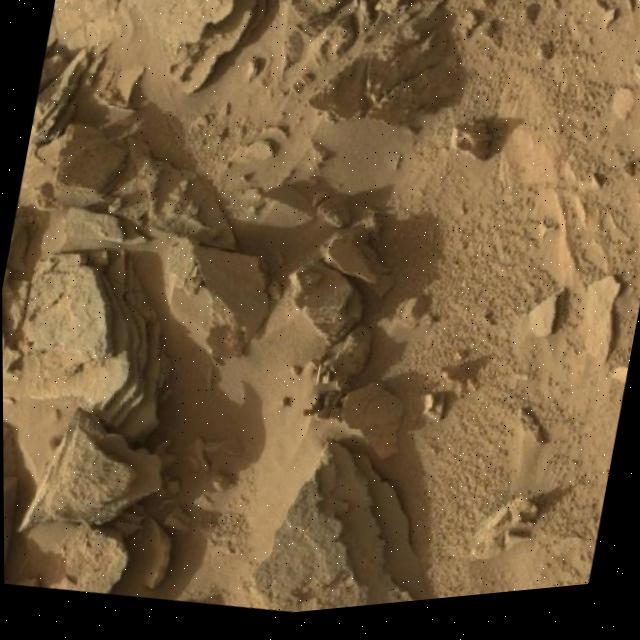mars-rocks: (289, 267, 363, 350), (342, 389, 405, 466), (321, 233, 391, 302), (471, 504, 540, 569), (584, 286, 622, 373), (531, 302, 559, 346)
